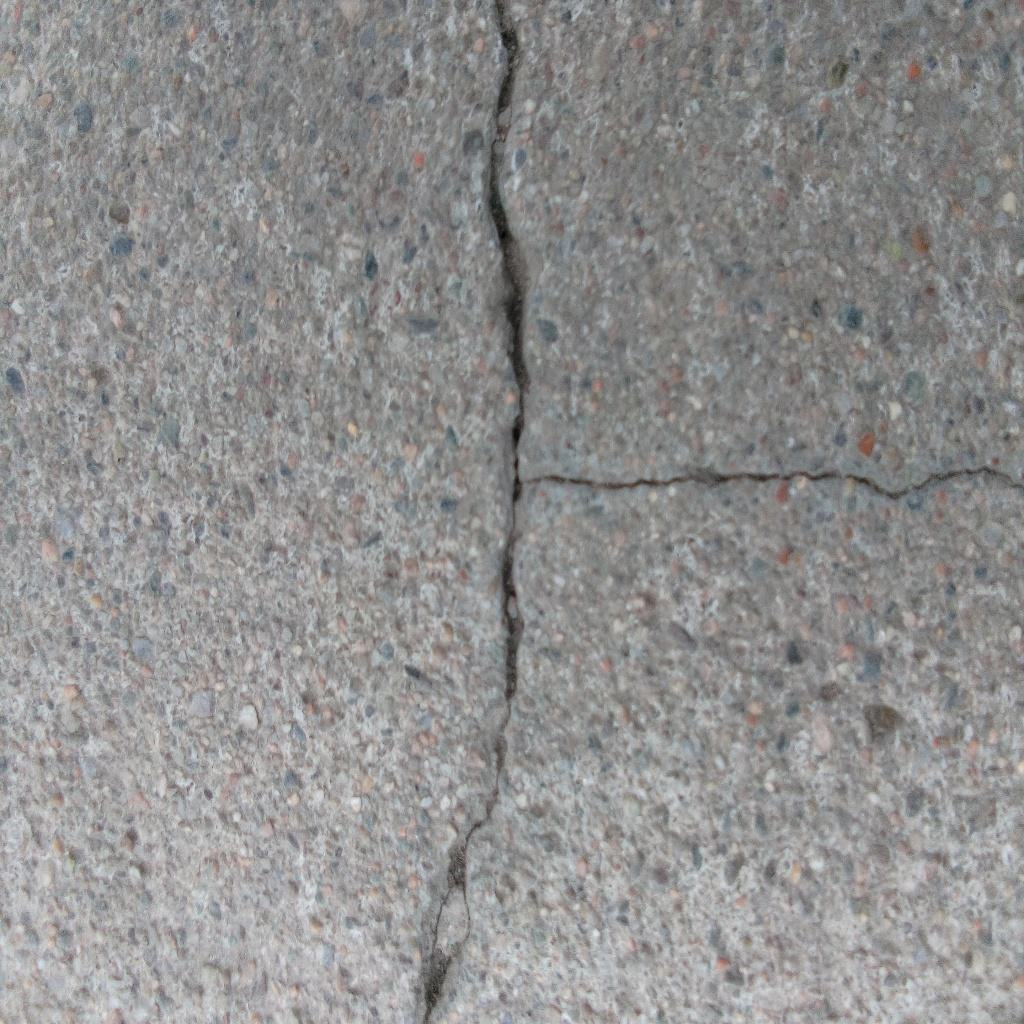Crack: (421, 1, 531, 1024), (521, 464, 1024, 501)
